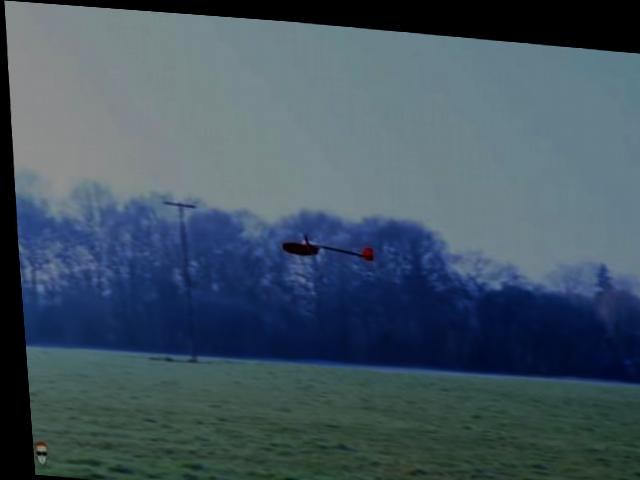uav: (276, 227, 379, 259)
